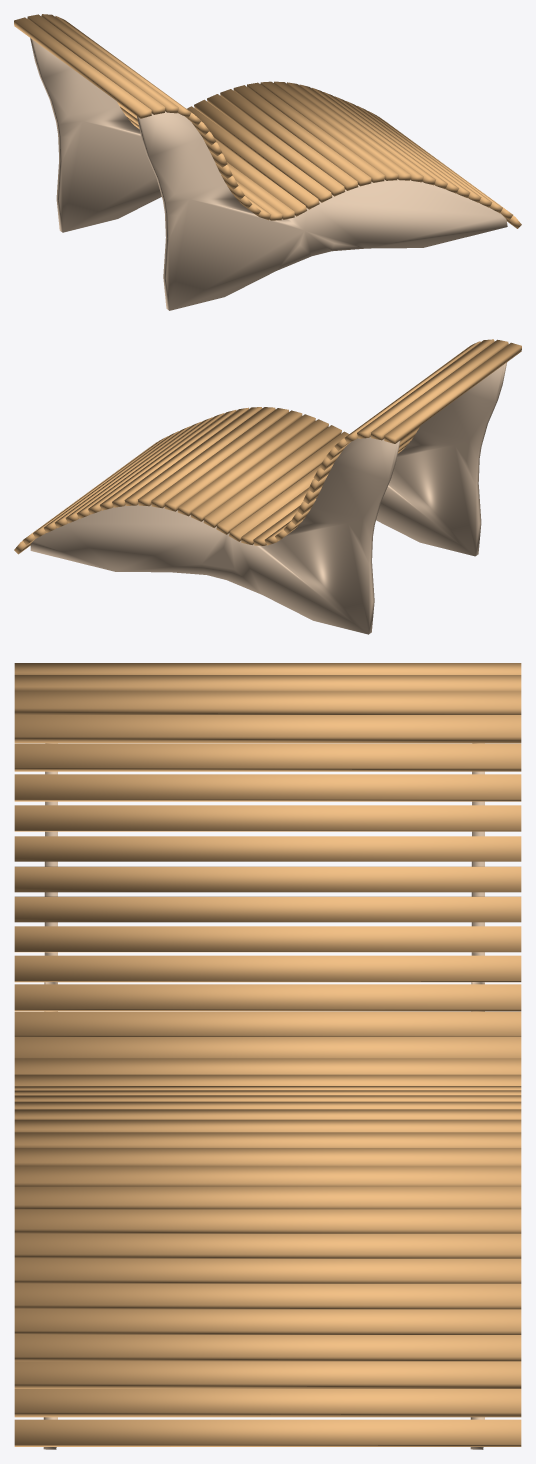
The model's file is lounger_narrow.glb.
3 views of the same model, one above another, from view 1: azimuth 30°, elevation 25°; view 2: azimuth 150°, elevation 25°; view 3: azimuth 270°, elevation 25° (orthographic). The views are drawn at different scales.
Visible parts, largest first — view 1: Node; view 2: Node; view 3: Node.
Part boxes in pixels (left/top/right/bottom): Node: left=14, top=14, right=521, bottom=310; Node: left=14, top=339, right=521, bottom=634; Node: left=14, top=663, right=521, bottom=1449.
Bounding box in the file's own units: 2.09 × 1.11 × 1.2.
